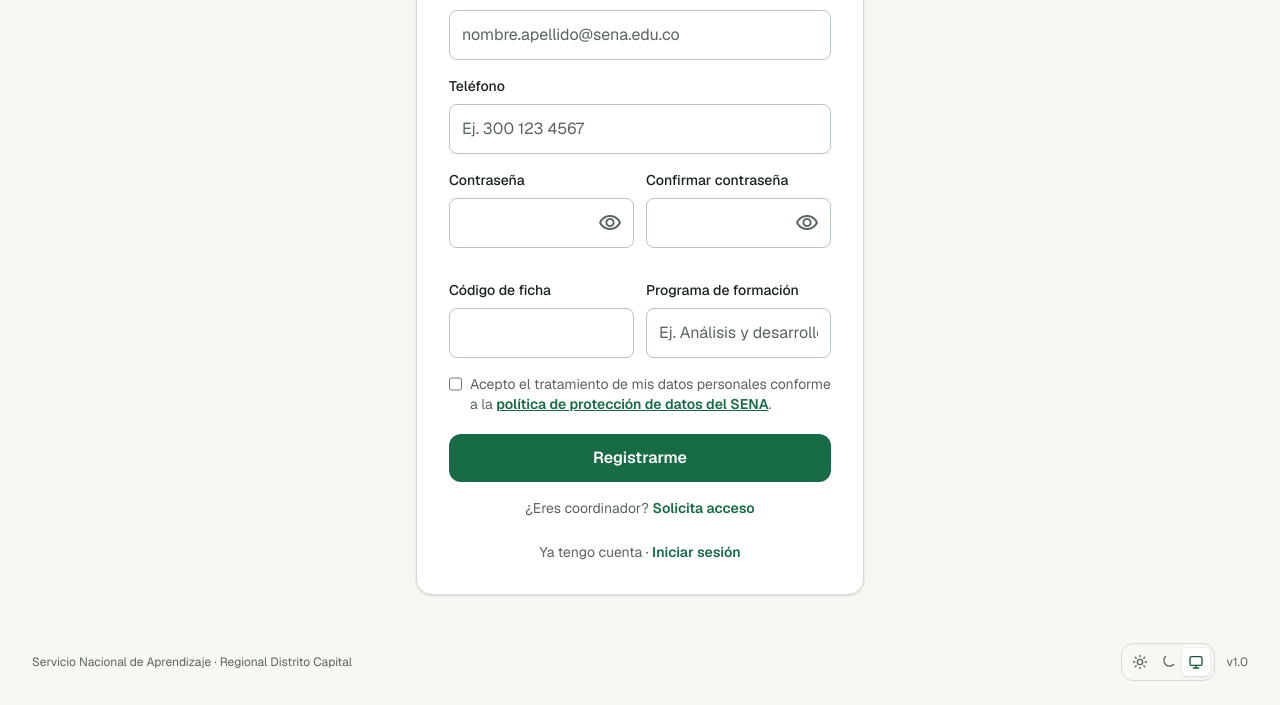
it: Registro › muestra el error del backend si la solicitud de acceso falla
(page scrolled)
Click the button "Solicita acceso" at (704, 508), box [652, 498, 755, 518]
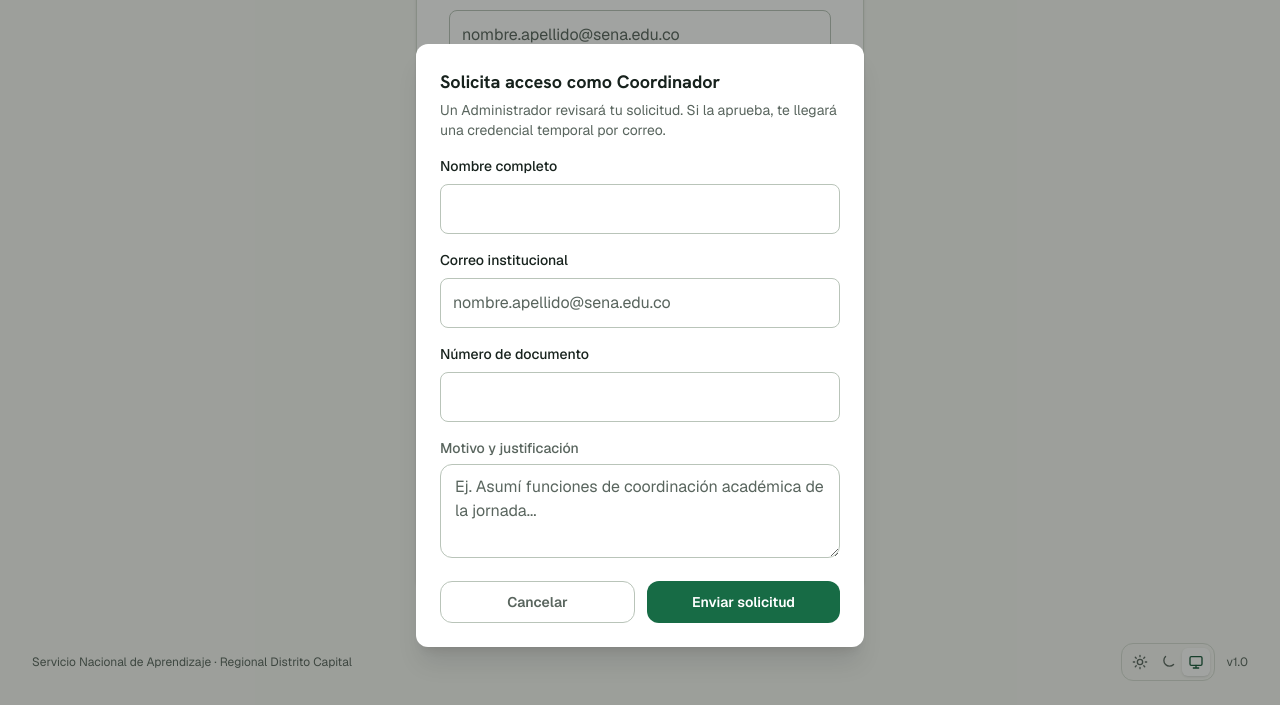
Type "Maritza Benítez" into the field labelled "Nombre completo" at (640, 208), box [440, 184, 840, 234]
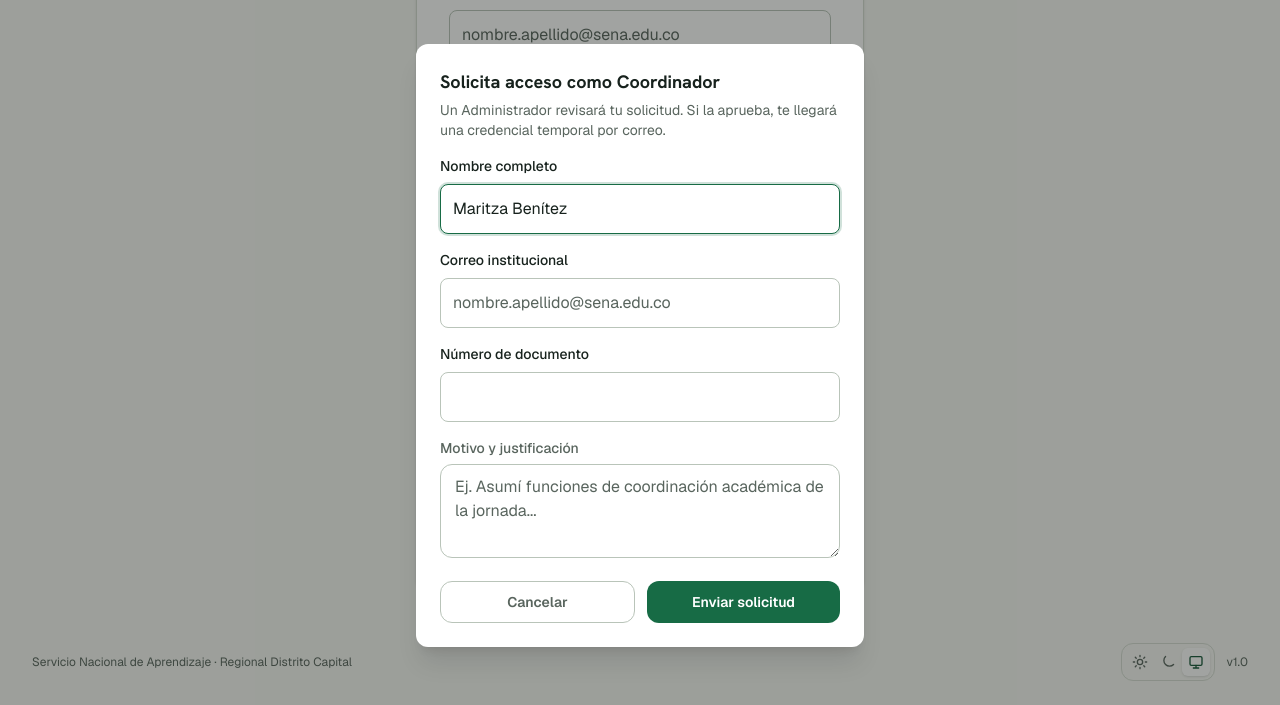
Type "mbenitez@sena.edu.co" into the field labelled "Correo institucional" at (640, 302), box [440, 278, 840, 328]
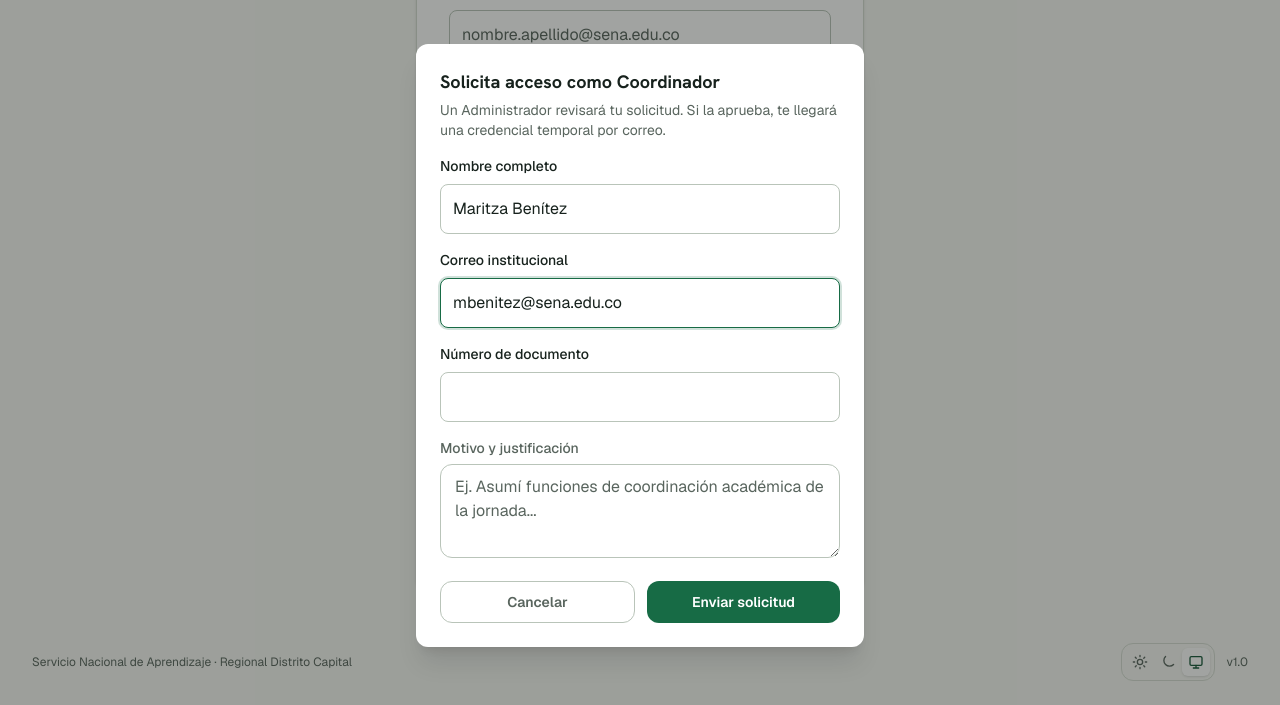
Type "52849120" into the field labelled "Número de documento" at (640, 396), box [440, 372, 840, 422]
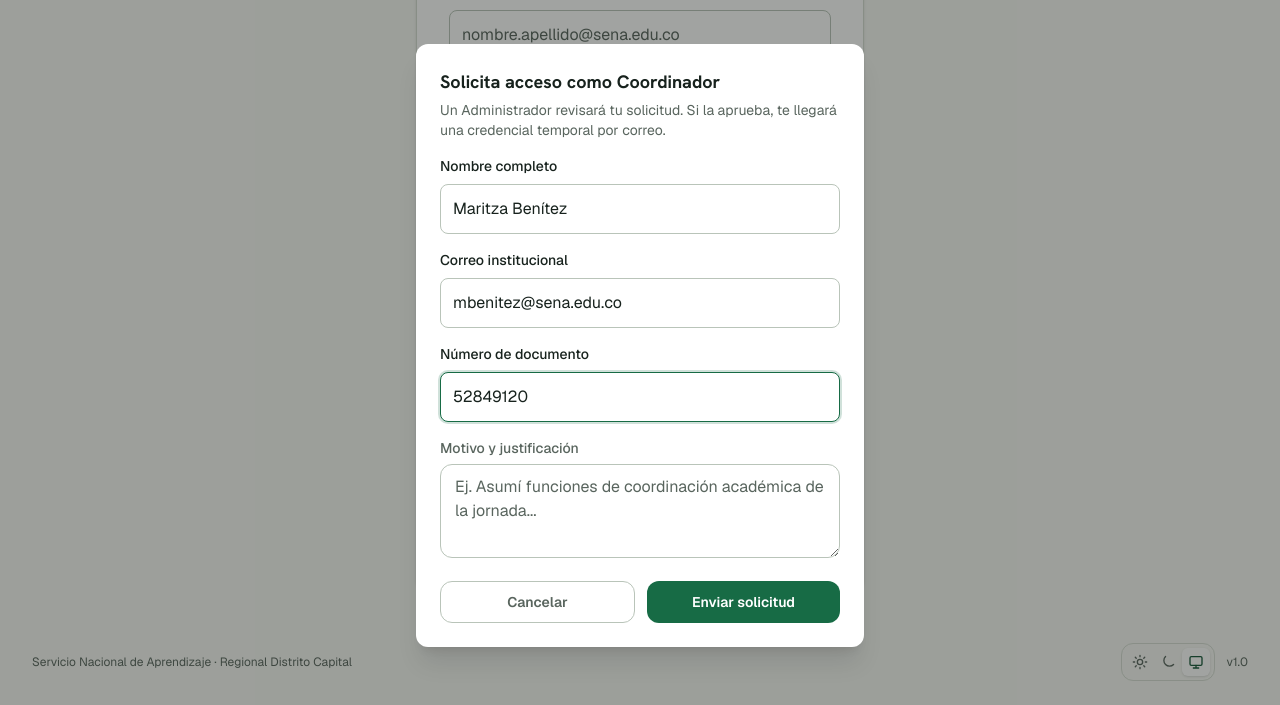
Type "Asumí funciones de coordinación académica." into the text box labelled "Motivo y justificación" at (640, 510), box [440, 464, 840, 558]
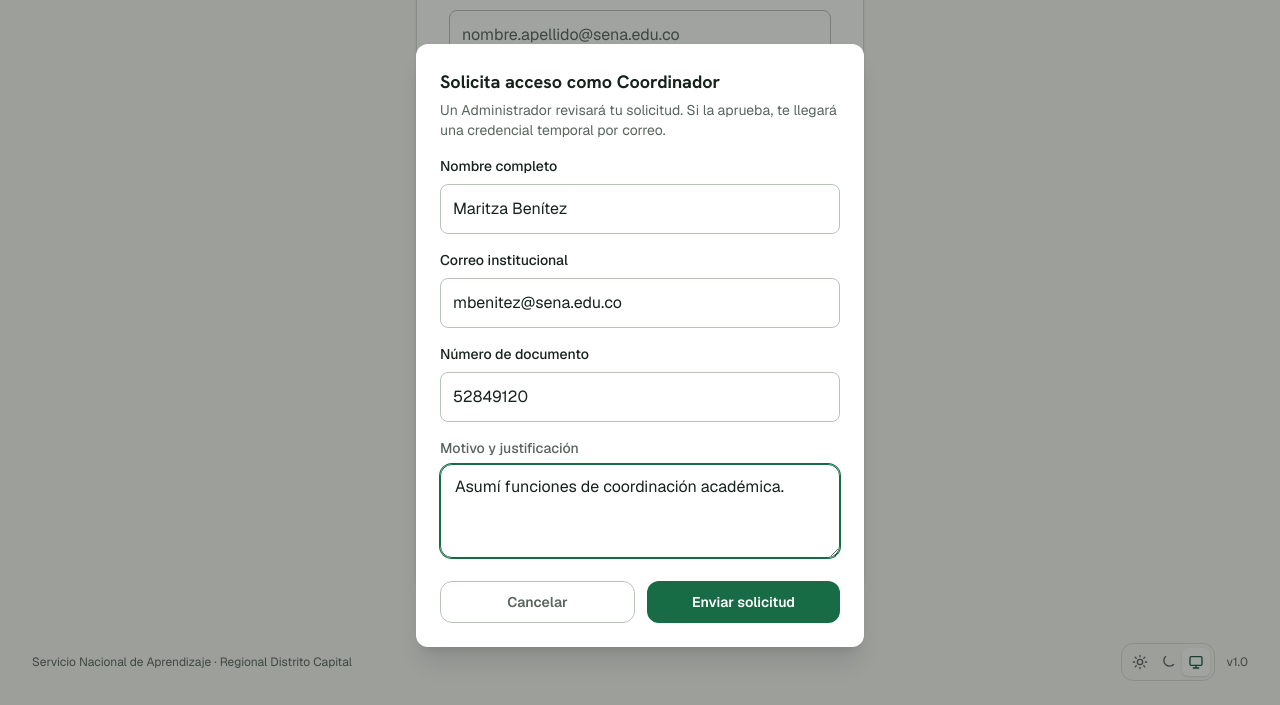
Click the button "Enviar solicitud" at (744, 602), box [647, 580, 840, 622]
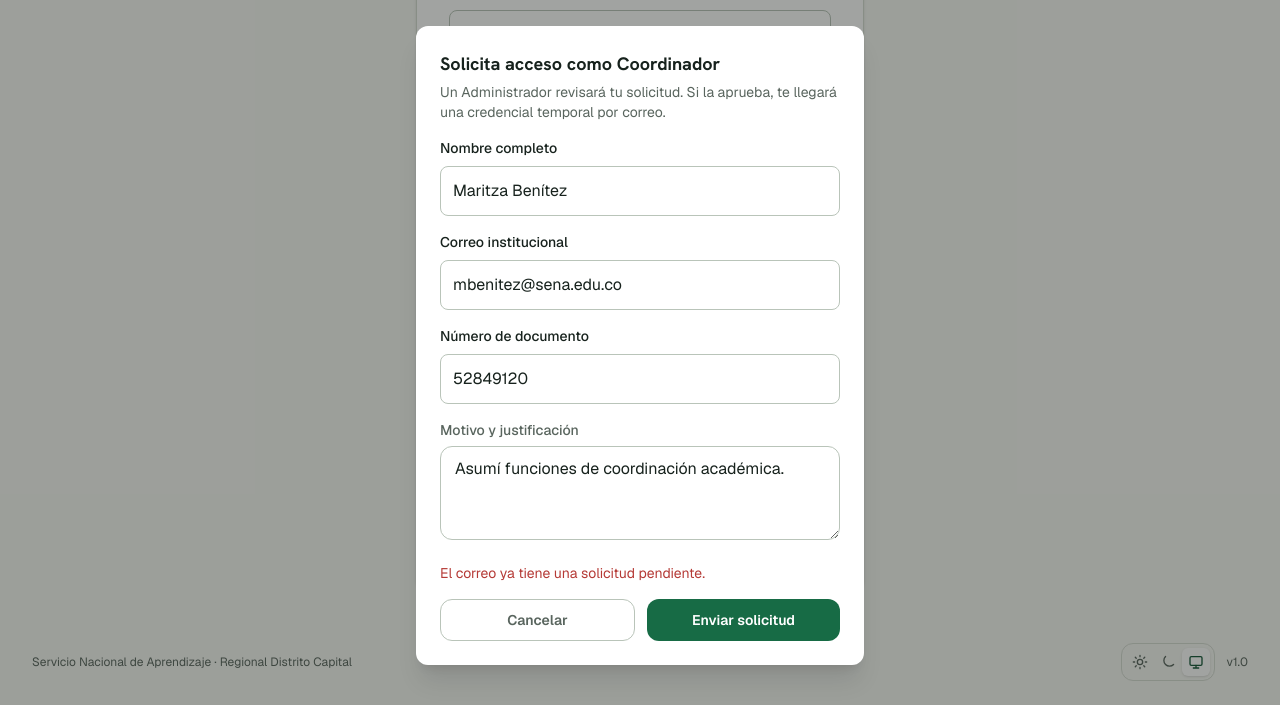
Expected: the message reads "El correo ya tiene una solicitud pendiente.", [440, 564, 705, 582]
